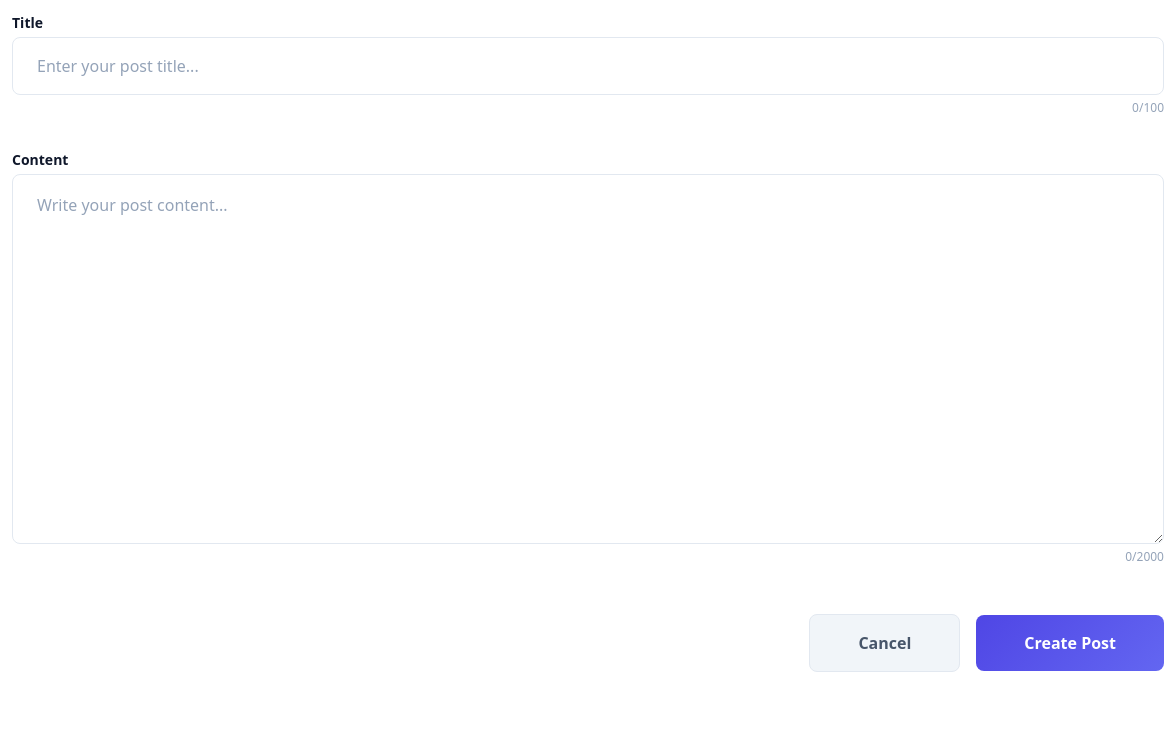
BlogForm › validation › shows error when content is empty on submit
Type "Valid Title" into the field labelled "Title" at (588, 66), box [12,37,1164,95]
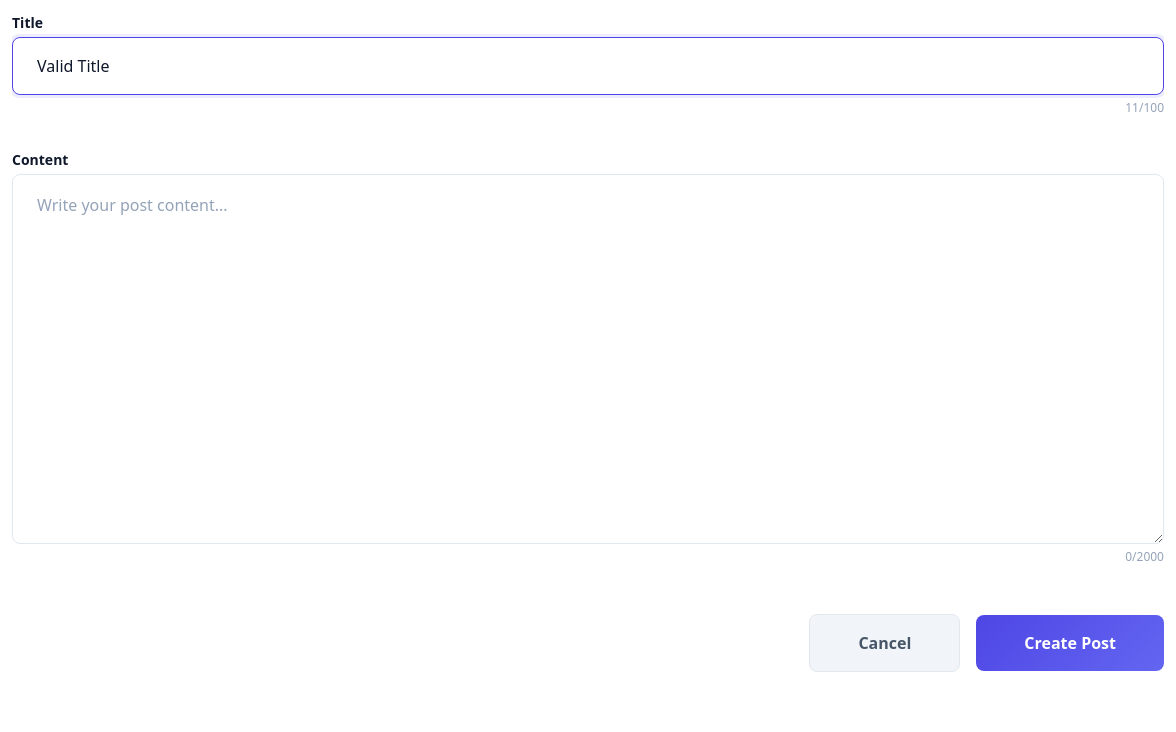
Click the button "Create Post" at (1070, 643), box [976,615,1164,671]
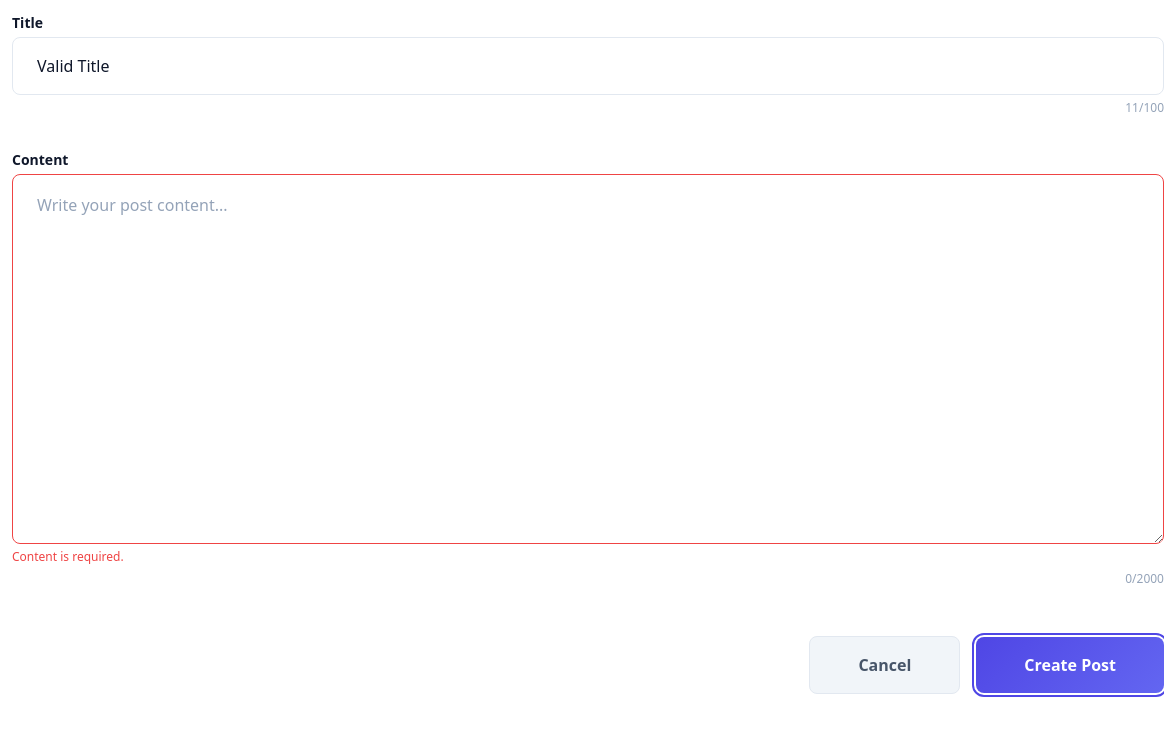
Now the text "Content is required." is shown, box [12,548,124,565]
